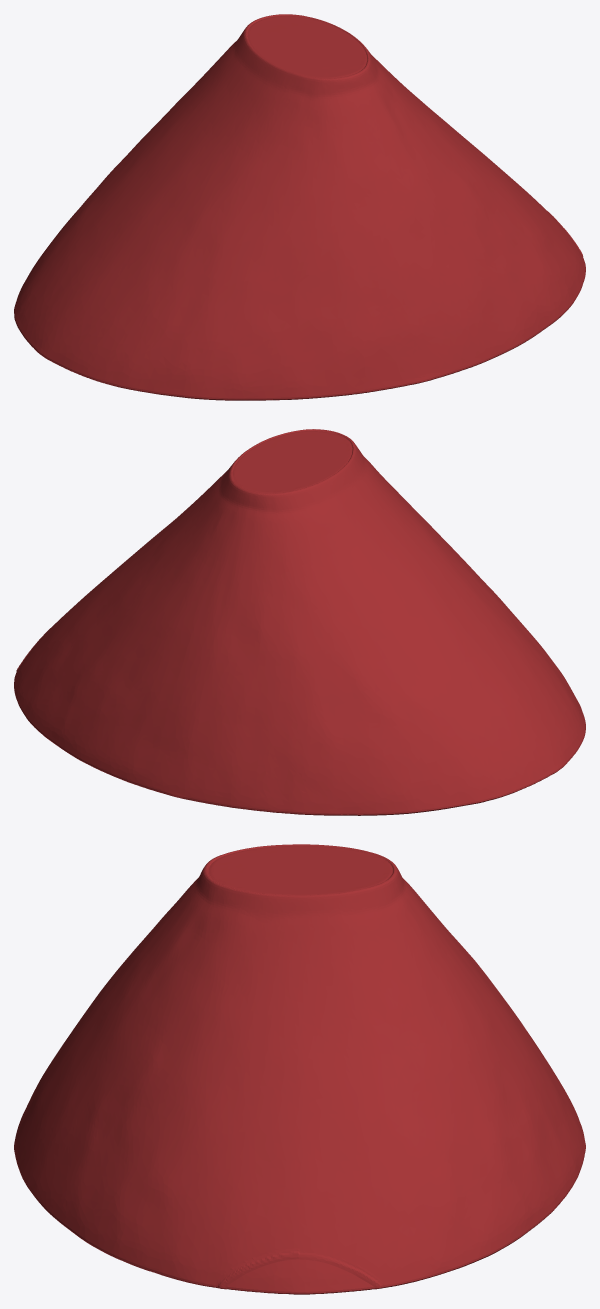
Rendered from skirt.glb.
The picture shows the model from 3 angles, top to bottom: view 1: azimuth 30°, elevation 25°; view 2: azimuth 150°, elevation 25°; view 3: azimuth 270°, elevation 25°; orthographic projection. The views are drawn at different scales.
Parts seen in each view (by area): view 1: geometry_0; view 2: geometry_0; view 3: geometry_0.
Boxes of the visible parts, bbox=[...] form: geometry_0: bbox=[14, 14, 585, 400]; geometry_0: bbox=[14, 429, 585, 815]; geometry_0: bbox=[14, 844, 585, 1294].
Size of the model in its own units: 0.6775 by 0.3059 by 0.5588.
